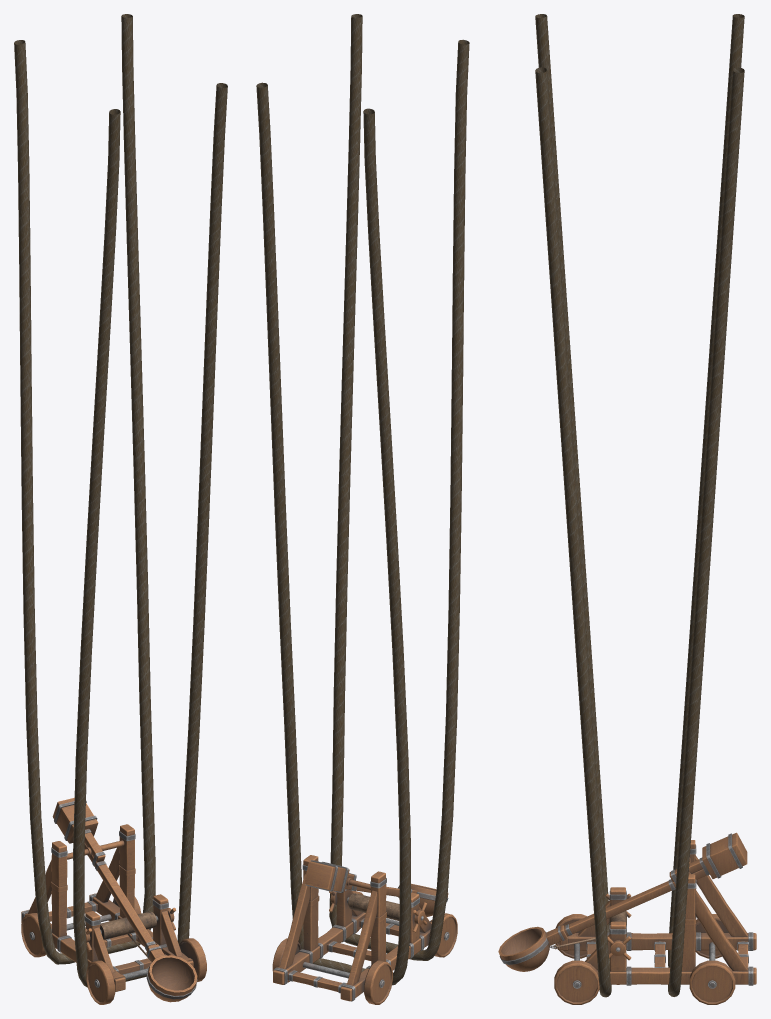
The model's file is Trebushay.obj.
The picture shows the model from 3 angles, left to right: view 1: azimuth 30°, elevation 25°; view 2: azimuth 150°, elevation 25°; view 3: azimuth 270°, elevation 25°; orthographic projection. The views are drawn at different scales.
Parts seen in each view (by area): view 1: mesh_cradle; view 2: mesh_cradle; view 3: mesh_cradle.
Part boxes in pixels (bbox=[...]): mesh_cradle: bbox=[14, 14, 227, 1004]; mesh_cradle: bbox=[256, 14, 469, 1004]; mesh_cradle: bbox=[498, 14, 756, 1004].
Bounding box in the file's own units: 14.96 × 101 × 25.14.
Materials: 2 (2 with a texture image).
